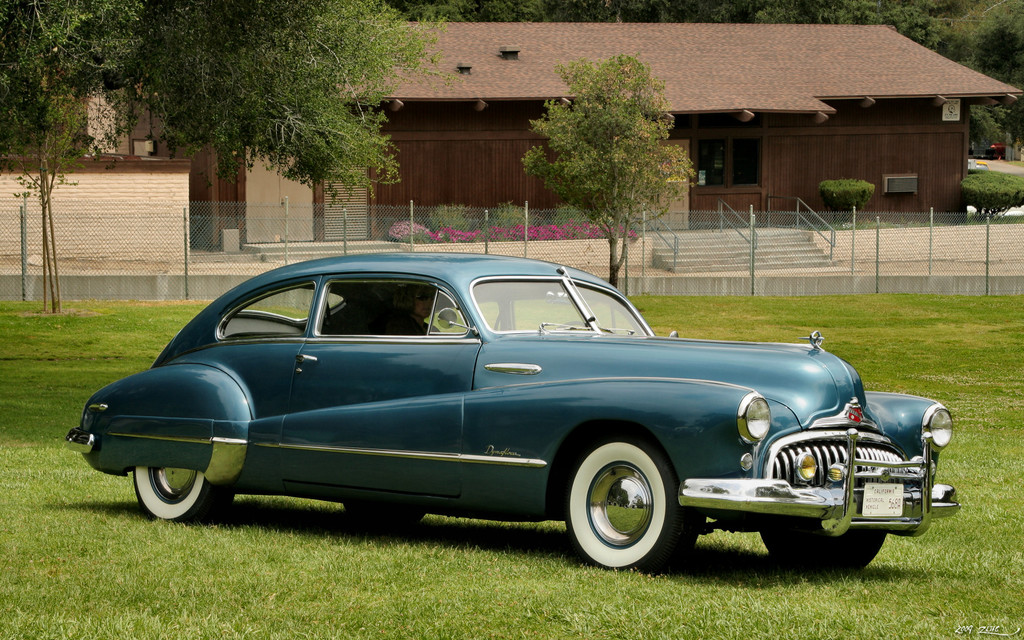cars: (69, 257, 949, 571)
